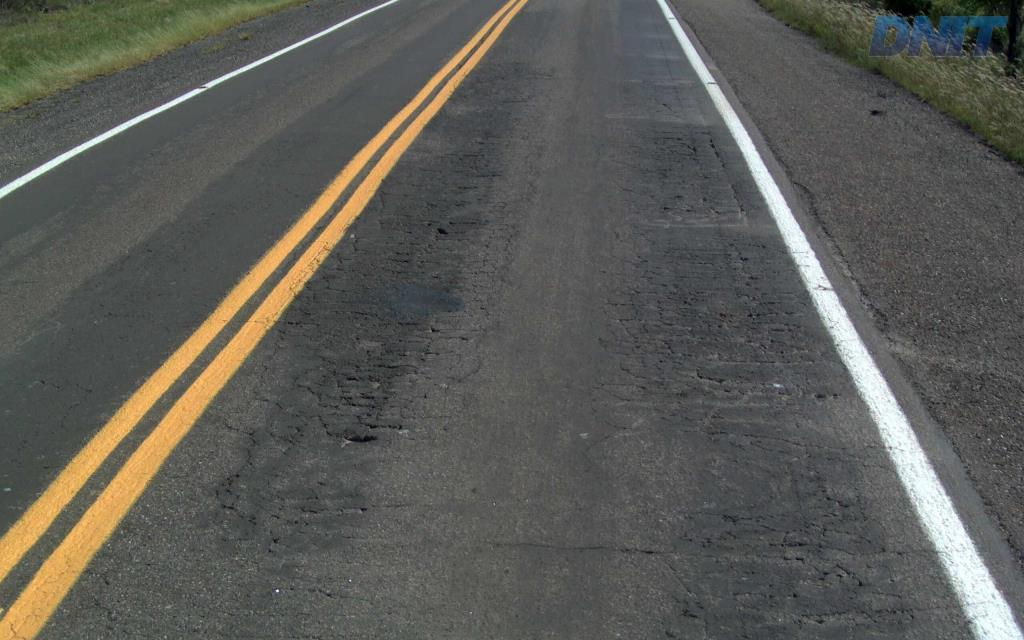crack: (327, 337, 412, 395), (339, 391, 402, 430), (317, 415, 378, 443)
